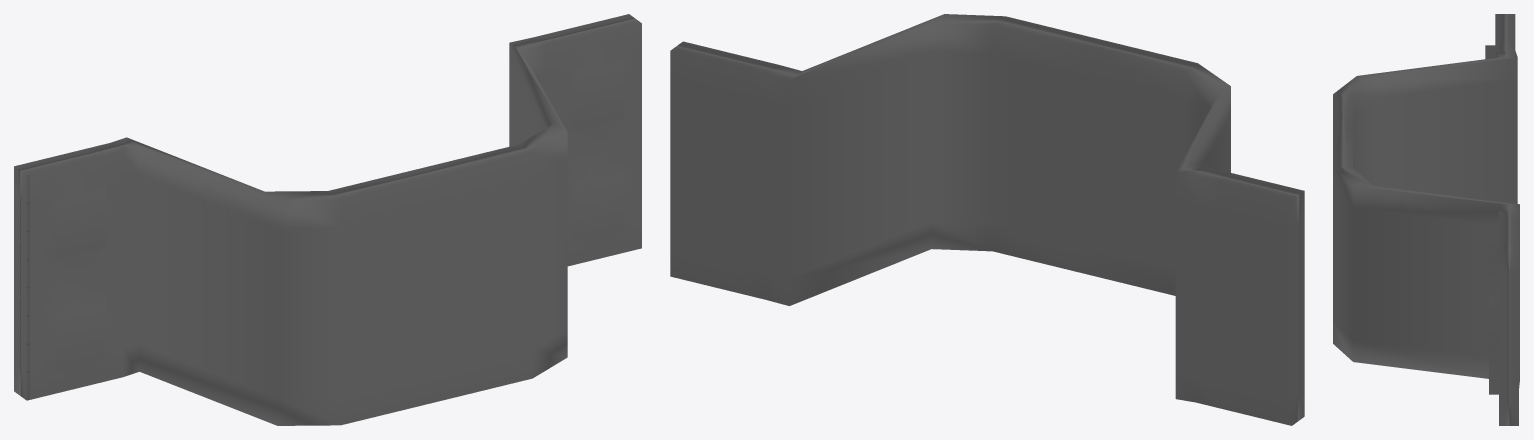
File: child_restraint.glb
The picture shows the model from 3 angles, left to right: view 1: azimuth 30°, elevation 25°; view 2: azimuth 150°, elevation 25°; view 3: azimuth 270°, elevation 25°; orthographic projection. The views are drawn at different scales.
Visible parts, largest first — view 1: child_restraint; view 2: child_restraint; view 3: child_restraint.
Part boxes in pixels (bbox=[...]): child_restraint: bbox=[14, 14, 641, 425]; child_restraint: bbox=[670, 14, 1304, 425]; child_restraint: bbox=[1333, 14, 1519, 425].
Bounding box in the file's own units: 0.9934 × 0.346 × 0.3328.
1 material, 1 textured.
